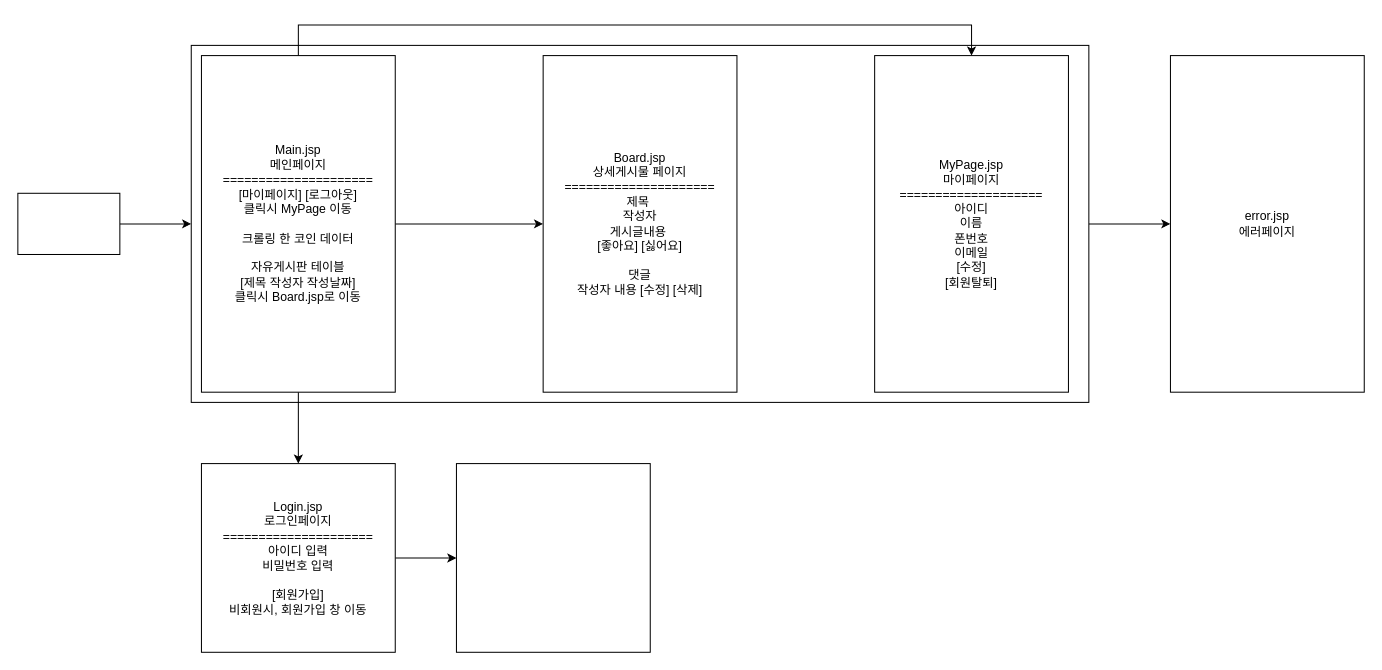
Image size: 1382x670. Some labels were removed from this diagram. The centre of each missing label's shape, as x and y in pixels:
Index.jsp: point 68,223
SingIn.jsp 회원가입 페이지 ======================= 아이디 비밀번호 이름 폰번호 이메일 [등록][취소]: point 552,557
